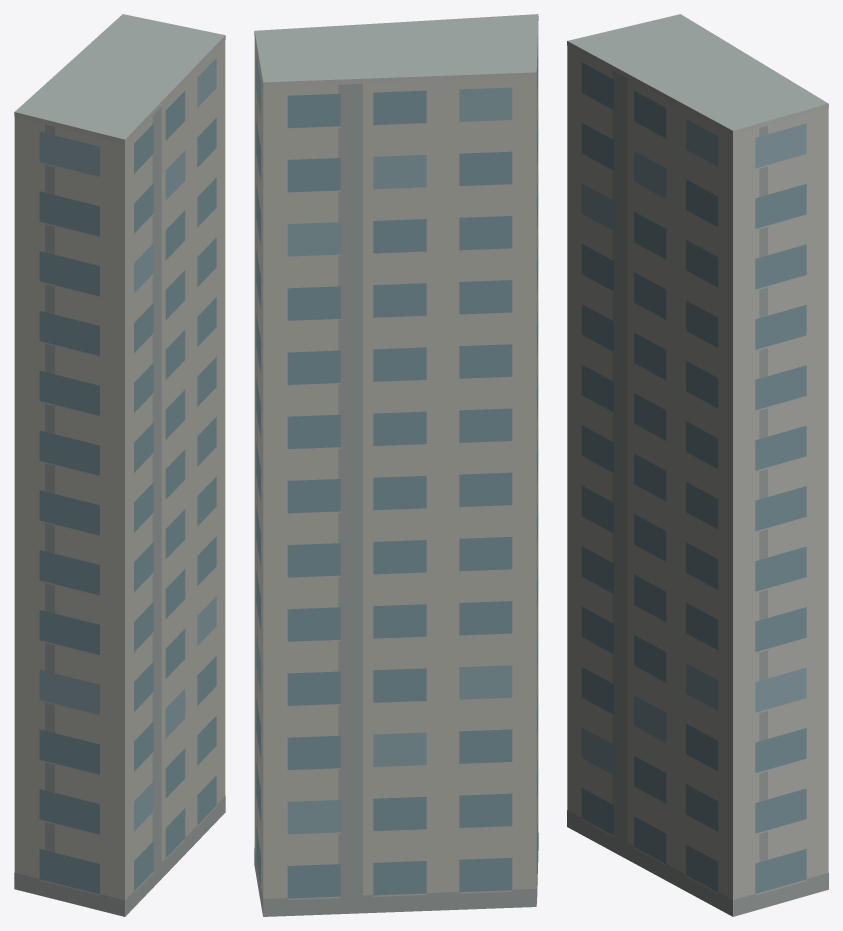
The model's file is survey-upis-32750904.glb.
3 views of the same model, side by side, from view 1: azimuth 30°, elevation 25°; view 2: azimuth 150°, elevation 25°; view 3: azimuth 270°, elevation 25° (orthographic). The views are drawn at different scales.
Parts seen in each view (by area): view 1: survey-upis-32750904.tmp; view 2: survey-upis-32750904.tmp; view 3: survey-upis-32750904.tmp.
Part boxes in pixels (bbox=[...]): survey-upis-32750904.tmp: bbox=[14, 14, 225, 916]; survey-upis-32750904.tmp: bbox=[254, 14, 538, 916]; survey-upis-32750904.tmp: bbox=[567, 14, 828, 916].
Bounding box in the file's own units: 12.65 × 39.65 × 11.97.
